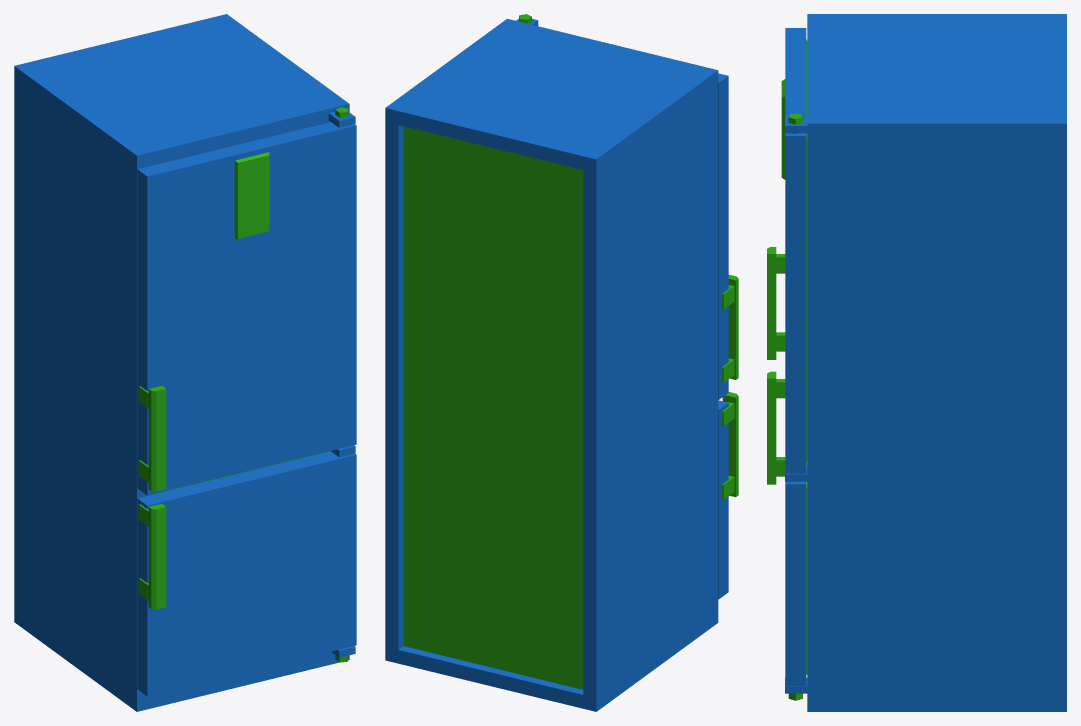
Rendered from SM_refrigerator.fbx.
3 renders of one model, left to right at view 1: azimuth 30°, elevation 25°; view 2: azimuth 150°, elevation 25°; view 3: azimuth 270°, elevation 25°, orthographic. The views are drawn at different scales.
Visible parts, largest first — view 1: refrigerator, Cube_6, Cube_2; view 2: refrigerator, Cube_6, Cube_2; view 3: refrigerator, Cube_6, Cube_2.
Part boxes in pixels (x1,y1,x2,y2): refrigerator: (14, 14, 355, 711); Cube_6: (137, 122, 356, 495); Cube_2: (137, 451, 356, 696); refrigerator: (385, 14, 718, 711); Cube_6: (718, 73, 738, 399); Cube_2: (718, 392, 738, 599); refrigerator: (785, 14, 1066, 711); Cube_6: (767, 28, 807, 473); Cube_2: (767, 371, 807, 685).
Size of the model in its own units: 81.12 by 200 by 92.42.
